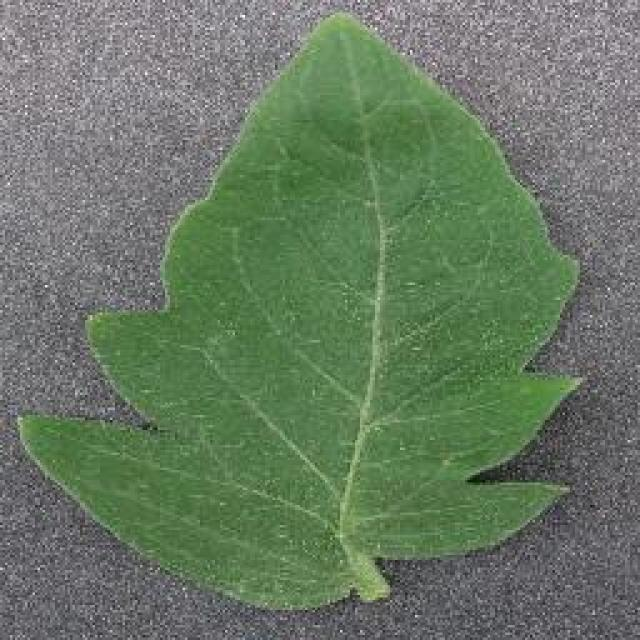Tomato healthy leaf: (36, 16, 589, 606)
